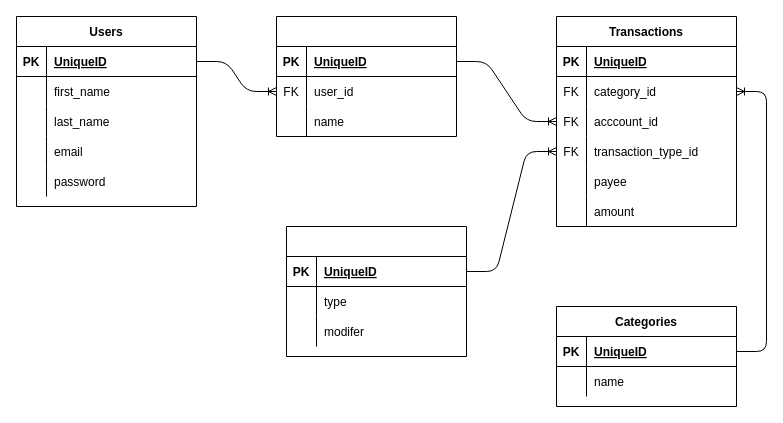
The diagram is 783 pixels wide and 423 high, and some of its shapes have lost their labels. Here are the shapes that lost their labels. From the top down, the box of each, then its label:
(276, 16, 456, 136): Accounts
(286, 226, 466, 356): Transaction_types
